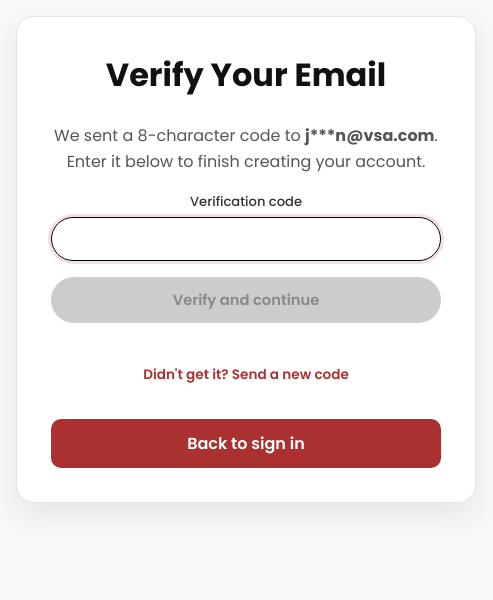
VerifyEmailPage › does not sign in or navigate when verification fails
Type "ABCDEFGH" into the field labelled "Verification code" at (246,239), box [51,217,441,261]
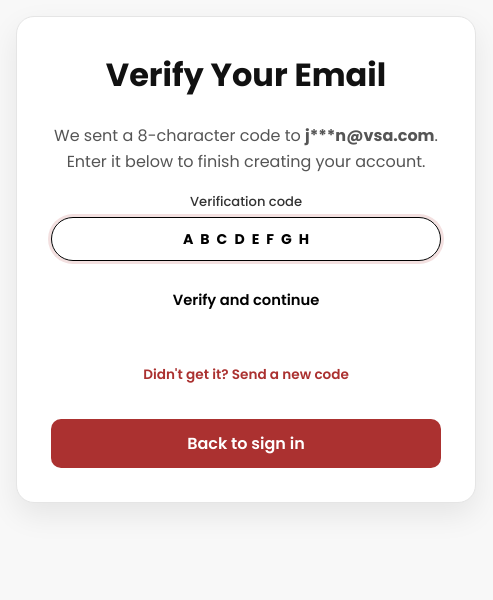
Click the button "Verify and continue" at (246,300), box [51,278,441,324]
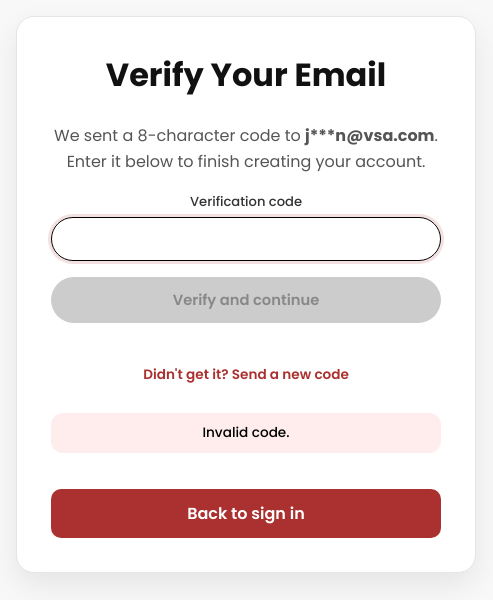
Expected: the text "Invalid code." is shown, [51,414,441,454]
